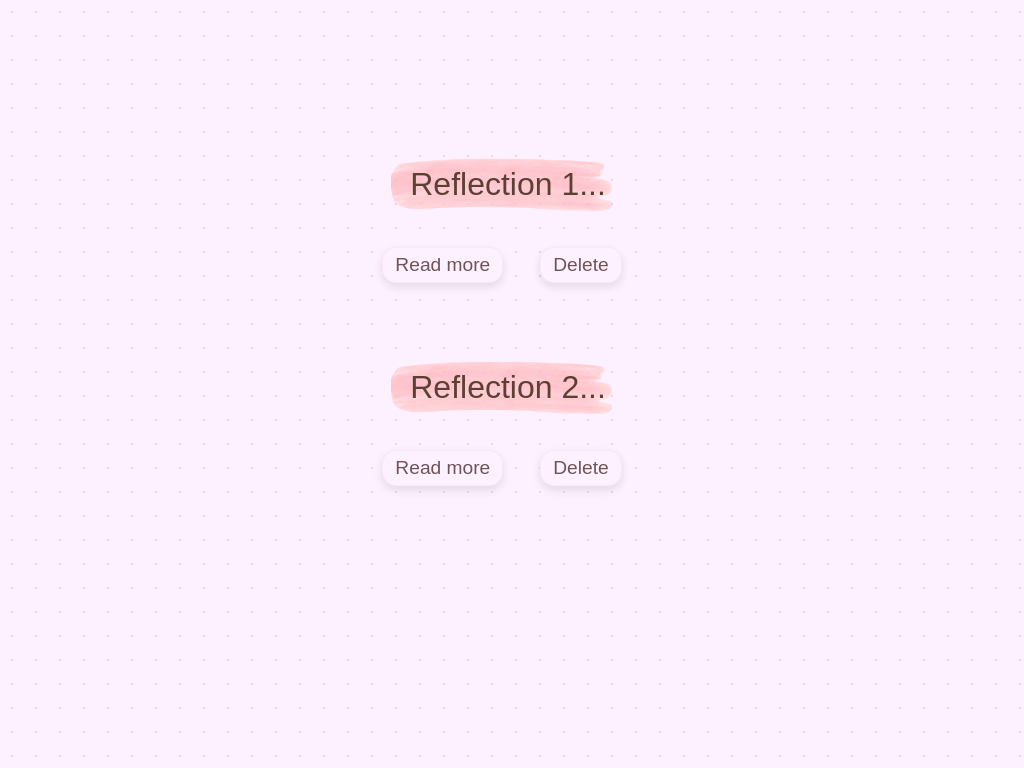
Test: ViewReflections Component › opens modal with full text on Read more click
What coordinates should you click on to do the following:
click the button "Read more" below "Reflection 1"
I would click on:
 (443, 265)
Its box is [382,247,503,283].
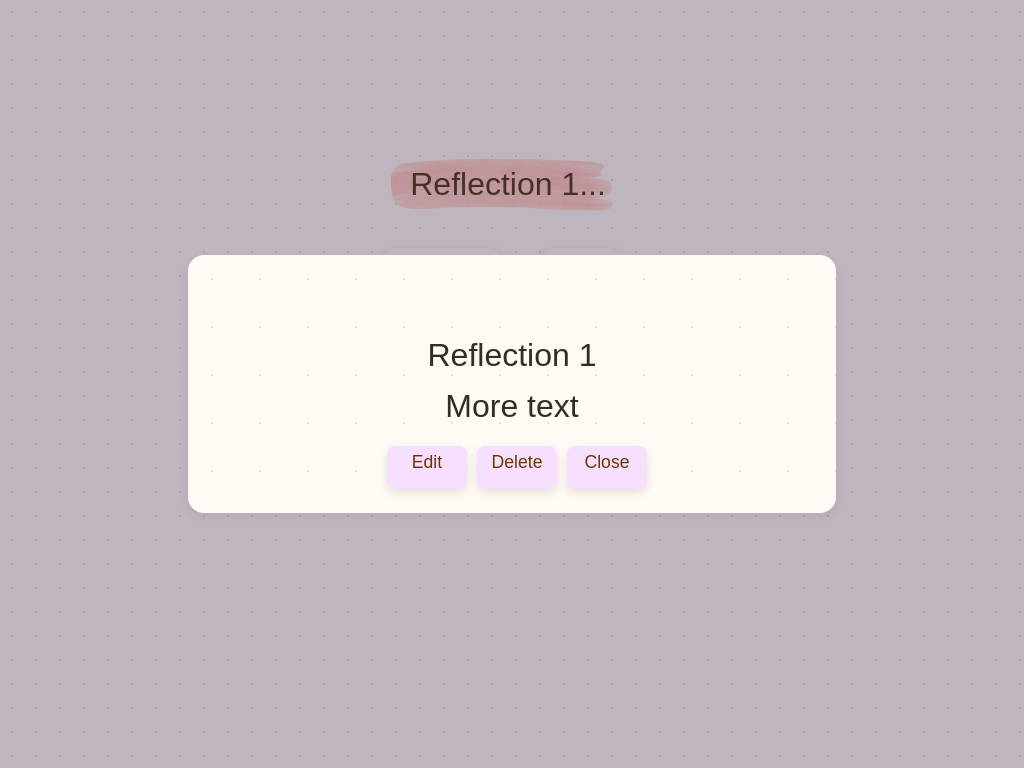
Result: the button "Edit" is shown at [387,446,467,489]
